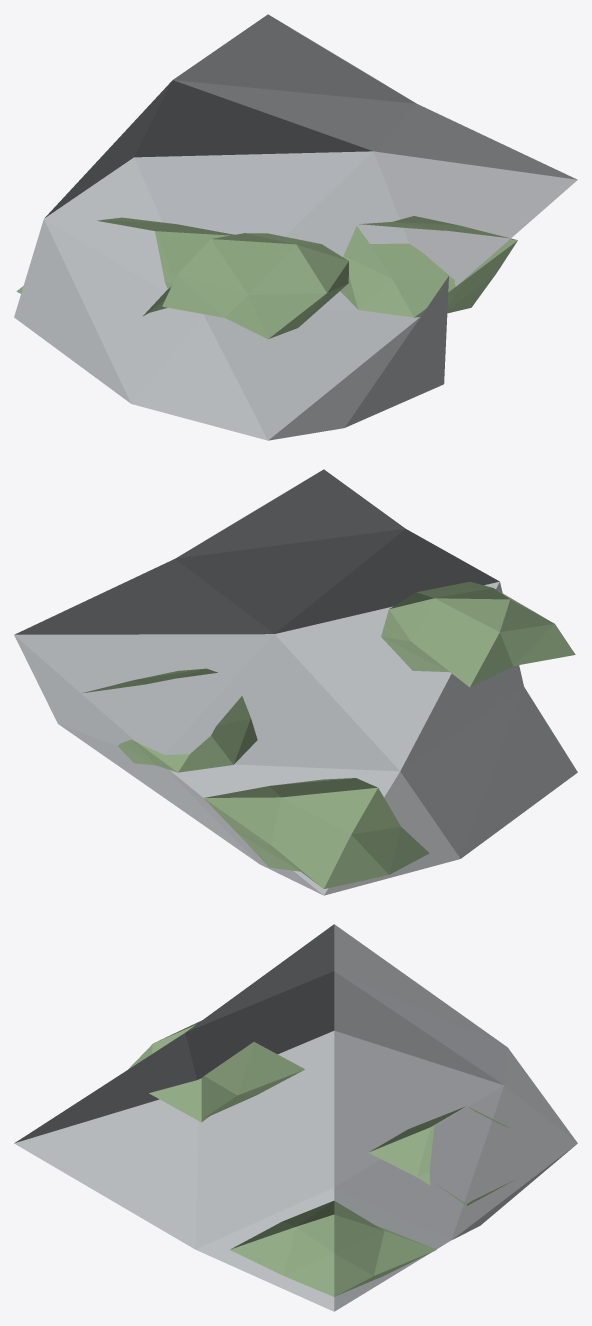
The model's file is moss_rock_v25.glb.
3 views of the same model, one above another, from view 1: azimuth 30°, elevation 25°; view 2: azimuth 150°, elevation 25°; view 3: azimuth 270°, elevation 25° (orthographic). The views are drawn at different scales.
Parts seen in each view (by area): view 1: lod0; view 2: lod0; view 3: lod0.
Part boxes in pixels (left/top/right/bottom): lod0: left=14, top=14, right=577, bottom=440; lod0: left=14, top=469, right=577, bottom=895; lod0: left=14, top=924, right=577, bottom=1311.
Size of what is drawn, in the model's own units: 0.6765 by 0.4887 by 0.6442.
